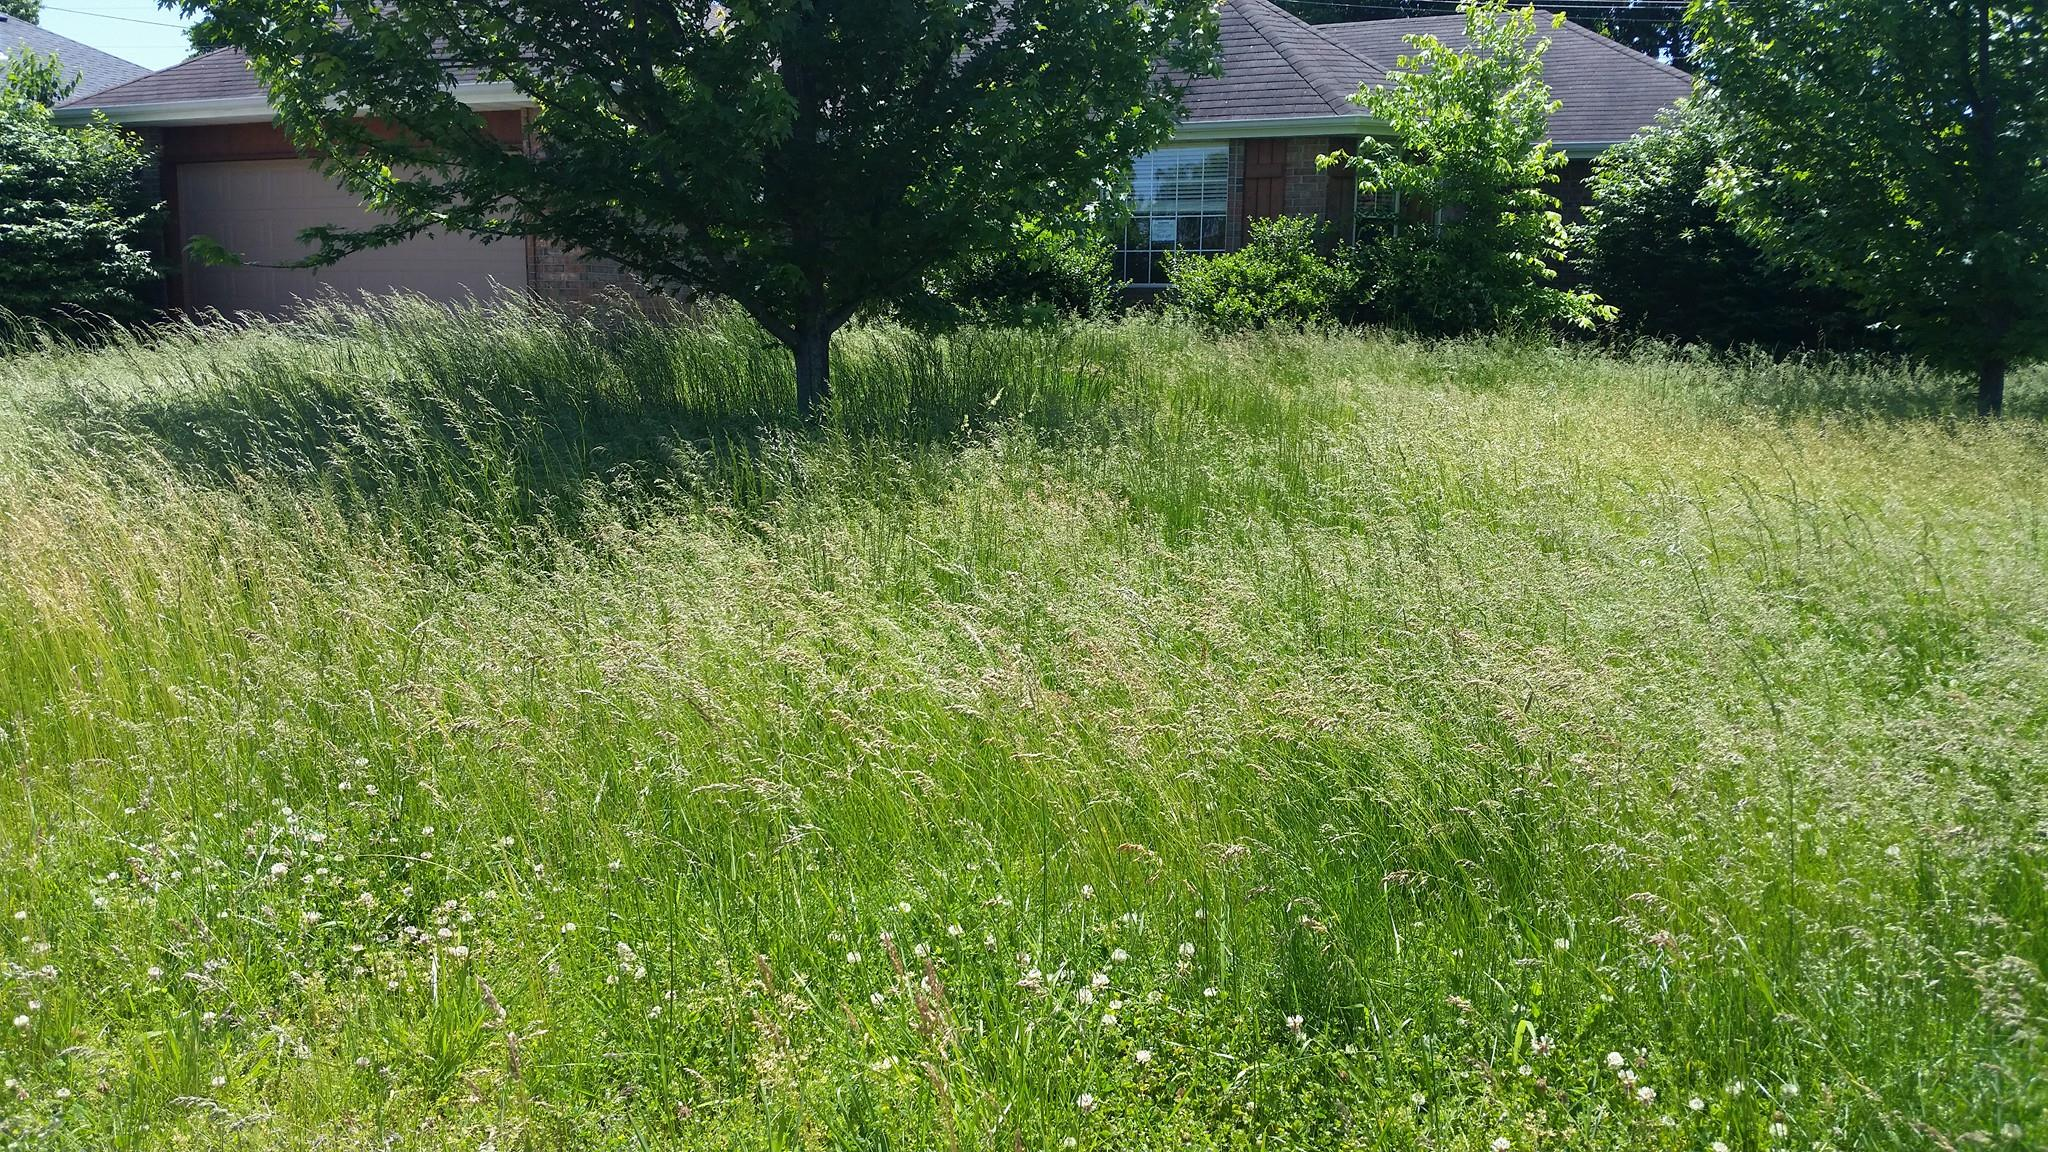grass: (14, 352, 2048, 1152)
